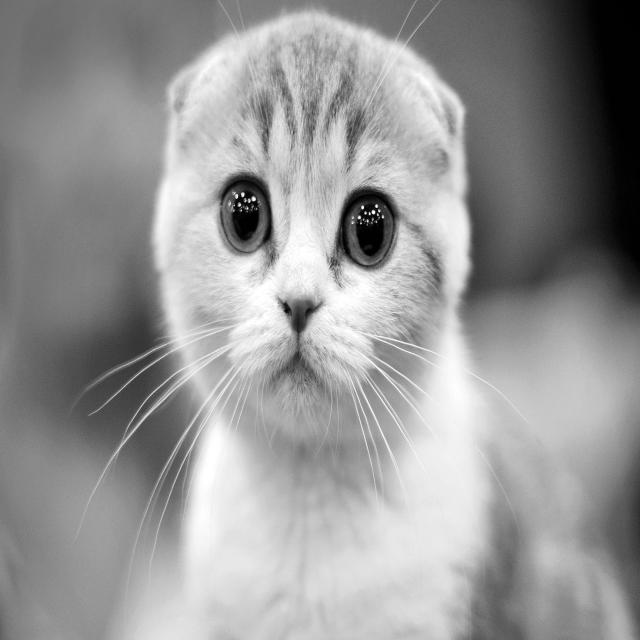Scottish Fold: (149, 3, 640, 640)
